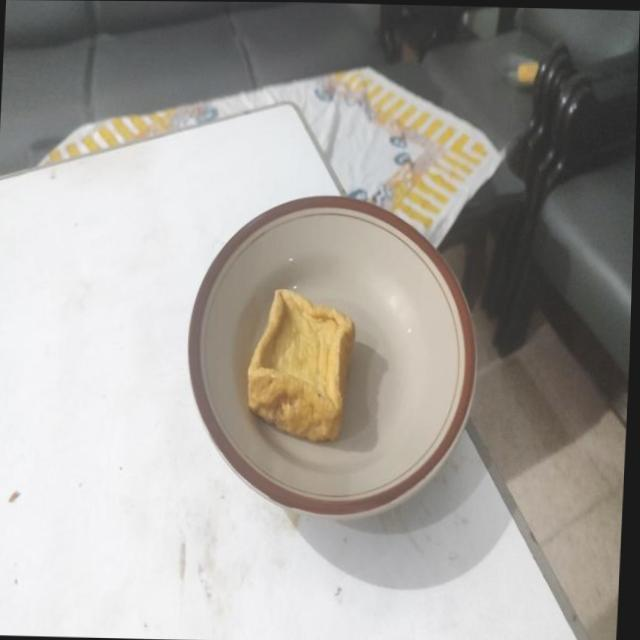tahu_goreng: (247, 289, 354, 440)
